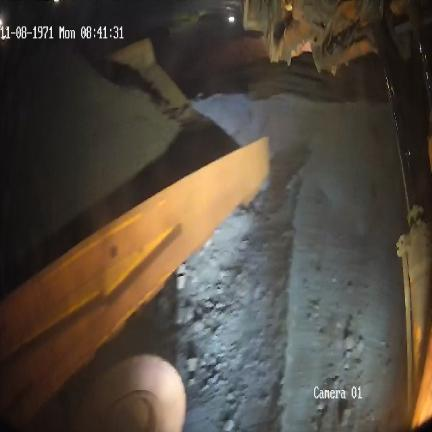pile: (159, 104, 403, 432), (2, 37, 200, 302)
